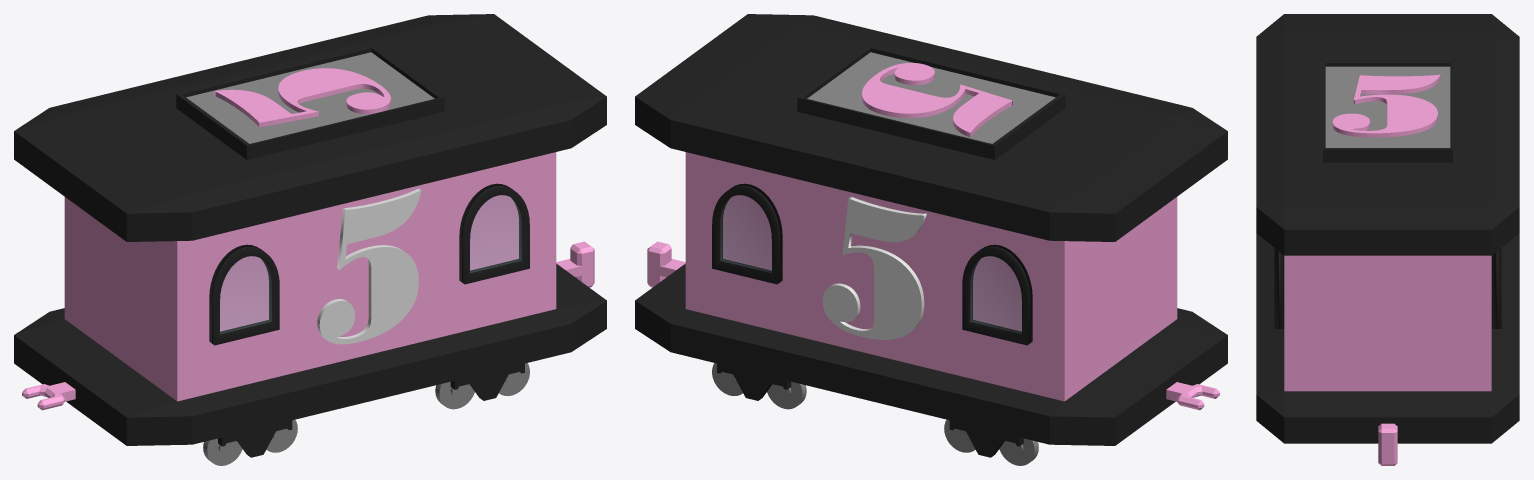
Rendered from traincar5 joined mesh2.fbx.
3 views of the same model, side by side, from view 1: azimuth 30°, elevation 25°; view 2: azimuth 150°, elevation 25°; view 3: azimuth 270°, elevation 25° (orthographic). The views are drawn at different scales.
Parts seen in each view (by area): view 1: Cart5; view 2: Cart5; view 3: Cart5.
Boxes of the visible parts, x1=… form: Cart5: x1=14, y1=14, x2=606, y2=465; Cart5: x1=635, y1=14, x2=1227, y2=465; Cart5: x1=1256, y1=14, x2=1519, y2=465.
Size of the model in its own units: 17.77 by 8.86 by 7.84.
